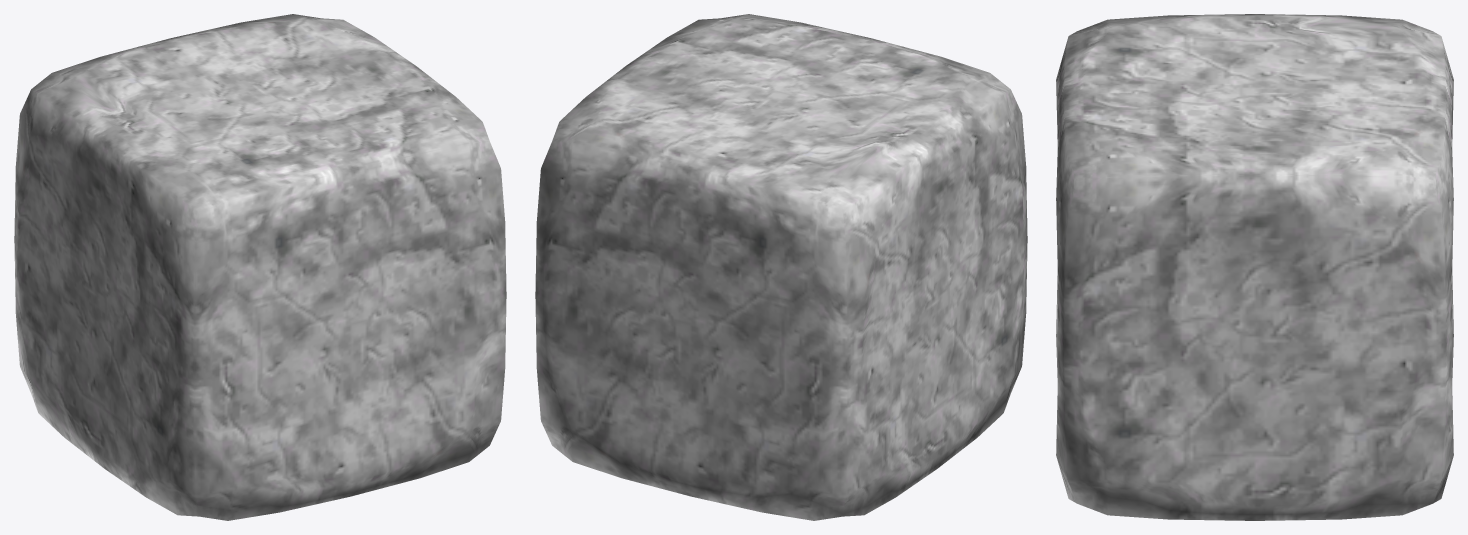
File: INST_TROLLHOLE_MOVEABLOCK.fbx
3 views of the same model, side by side, from view 1: azimuth 30°, elevation 25°; view 2: azimuth 150°, elevation 25°; view 3: azimuth 270°, elevation 25° (orthographic). The views are drawn at different scales.
Visible parts, largest first — view 1: INST_TROLLHOLE_MOVEABLOCK; view 2: INST_TROLLHOLE_MOVEABLOCK; view 3: INST_TROLLHOLE_MOVEABLOCK.
Boxes of the visible parts, x1,y1,x2,y2 form: INST_TROLLHOLE_MOVEABLOCK: (14,14,506,520); INST_TROLLHOLE_MOVEABLOCK: (535,14,1027,520); INST_TROLLHOLE_MOVEABLOCK: (1056,14,1453,520).
Bounding box in the file's own units: 10100 × 10100 × 10100.
Materials: 1 (1 with a texture image).
